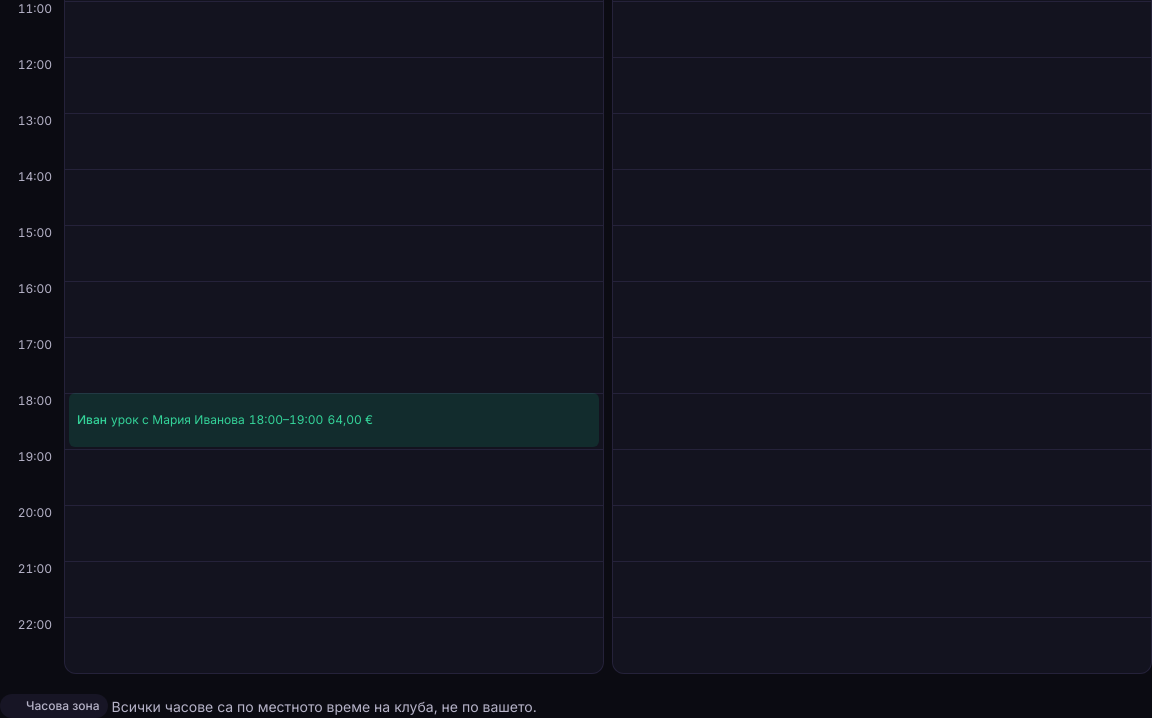
Test: DayGrid on the primitives › a lesson still ahead (#549): the desk opens it, sees who teaches, and can cancel it › a cancel that failed is said, and the sheet stays for another try
The image size is (1152, 718).
(page scrolled)
Click the button with aria-label "Иван, 18:00–19:00": click(334, 420) [69,393,599,447]
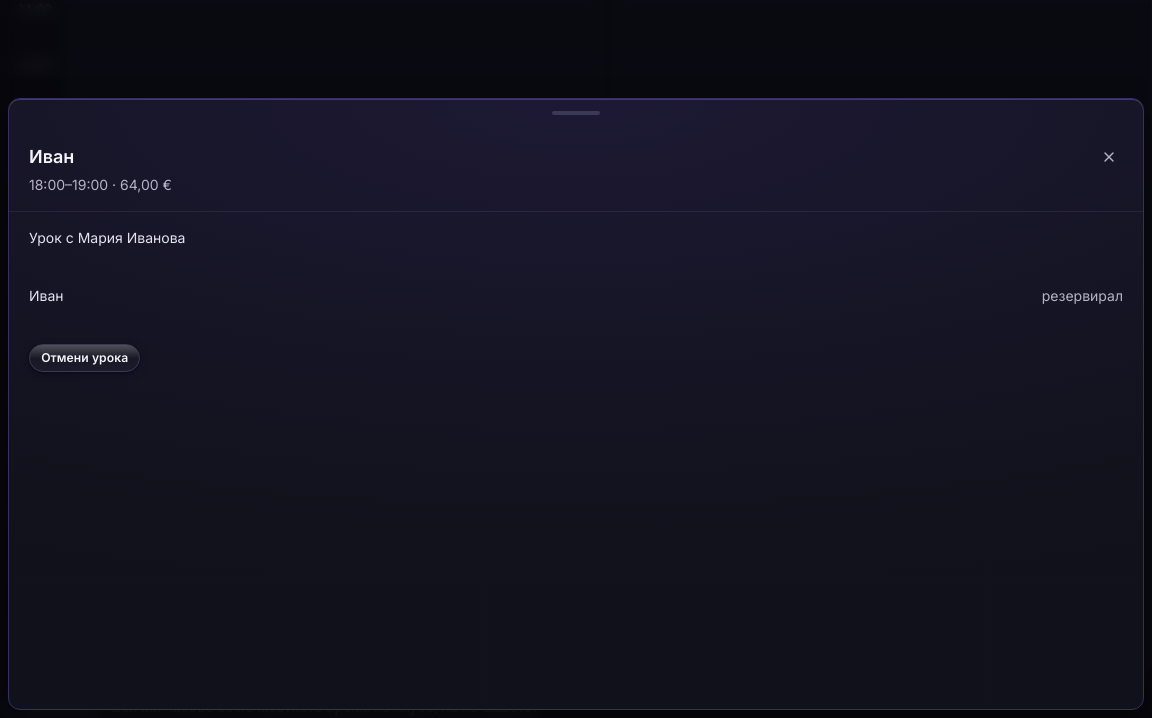
Click the button "Отмени урока": click(85, 358) [29,344,140,372]
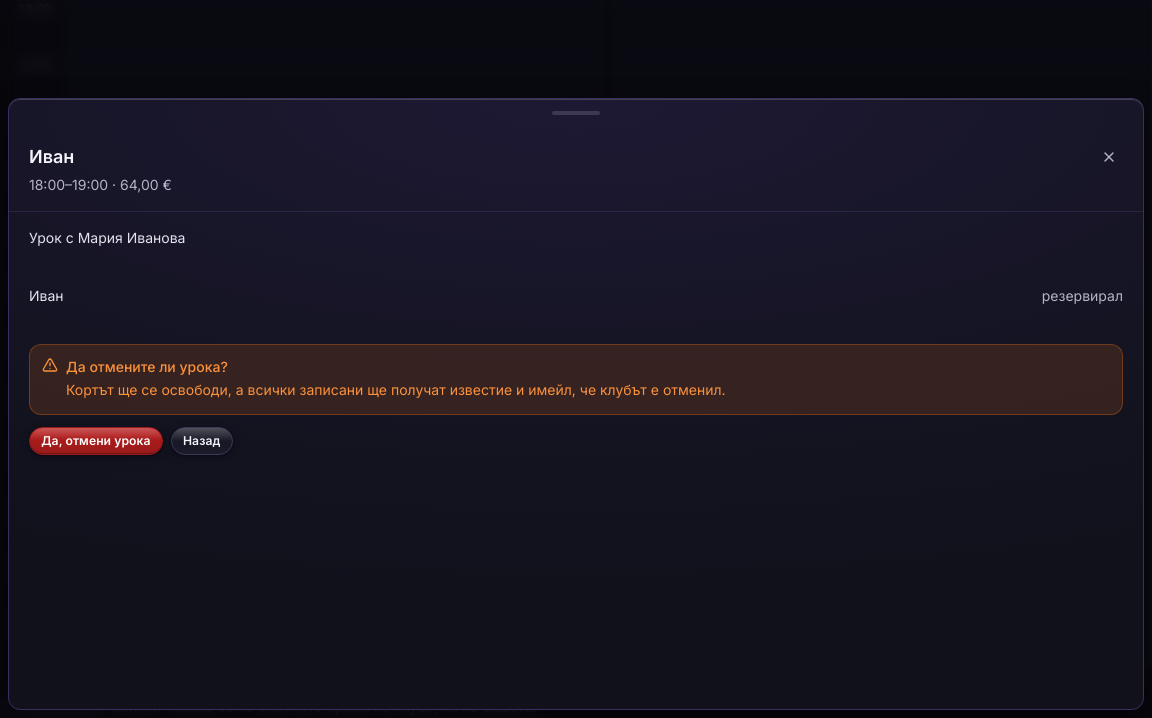
Click the button "Да, отмени урока": click(96, 441) [29,427,163,455]
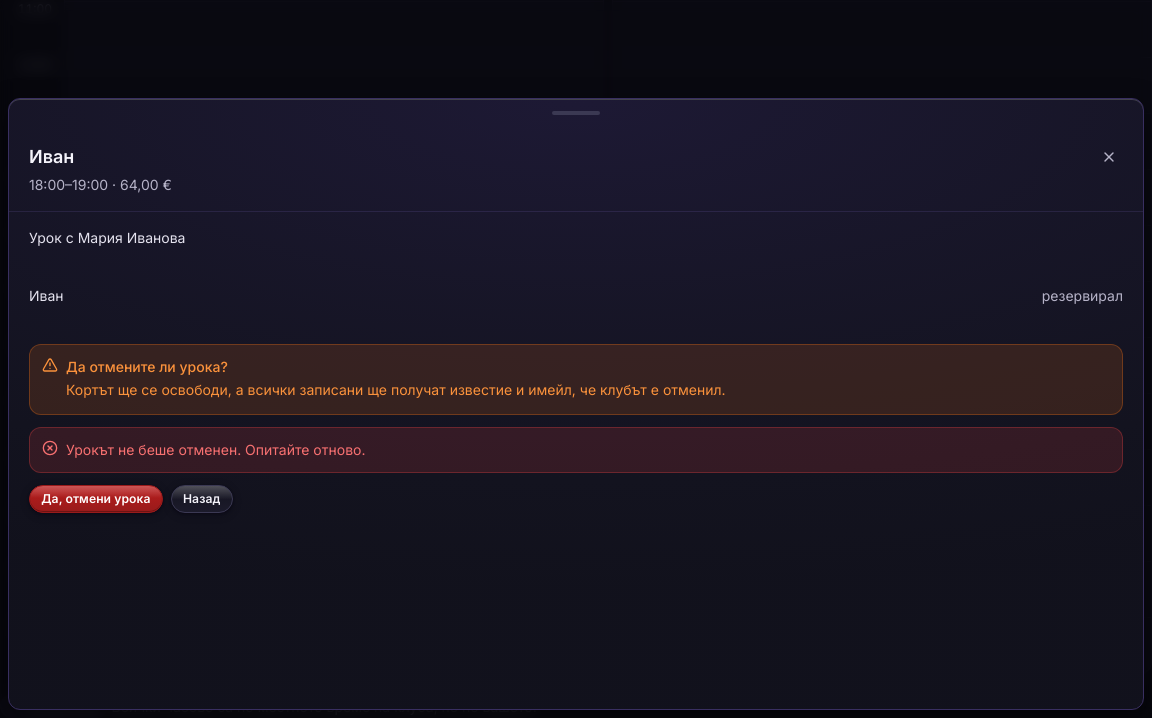
Result: the dialog is shown
Result: the text "Урокът не беше отменен. Опитайте отново." is shown at [66,441,366,458]
